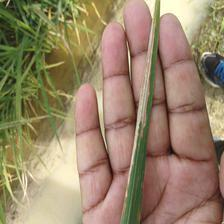2 BacterialBlight: (128, 21, 149, 194)
